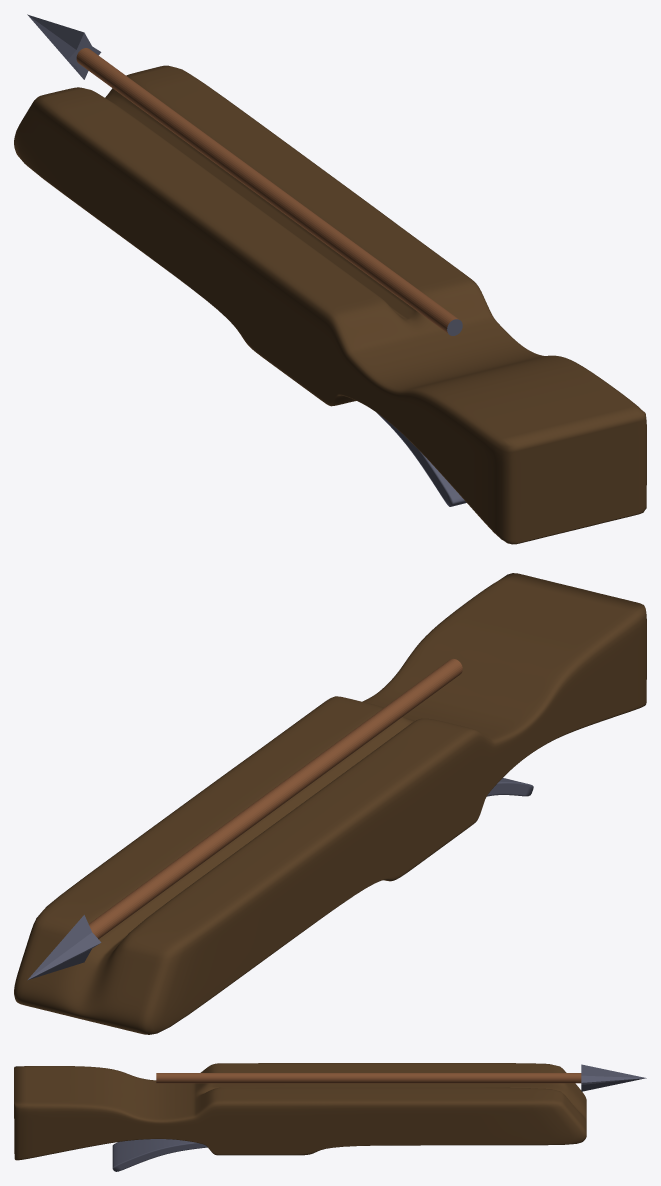
File: Ballesta2.fbx
3 renders of one model, top to bottom at view 1: azimuth 30°, elevation 25°; view 2: azimuth 150°, elevation 25°; view 3: azimuth 270°, elevation 25°, orthographic. The views are drawn at different scales.
Parts seen in each view (by area): view 1: Cube, Cylinder; view 2: Cube, Cylinder; view 3: Cube, Cylinder.
Part boxes in pixels (x1,y1,x2,y2): Cube: (14, 65, 646, 544); Cylinder: (27, 14, 462, 335); Cube: (14, 573, 646, 1034); Cylinder: (27, 659, 462, 980); Cube: (14, 1063, 586, 1171); Cylinder: (156, 1064, 646, 1091).
Bounding box in the file's own units: 299 × 323 × 1927.
